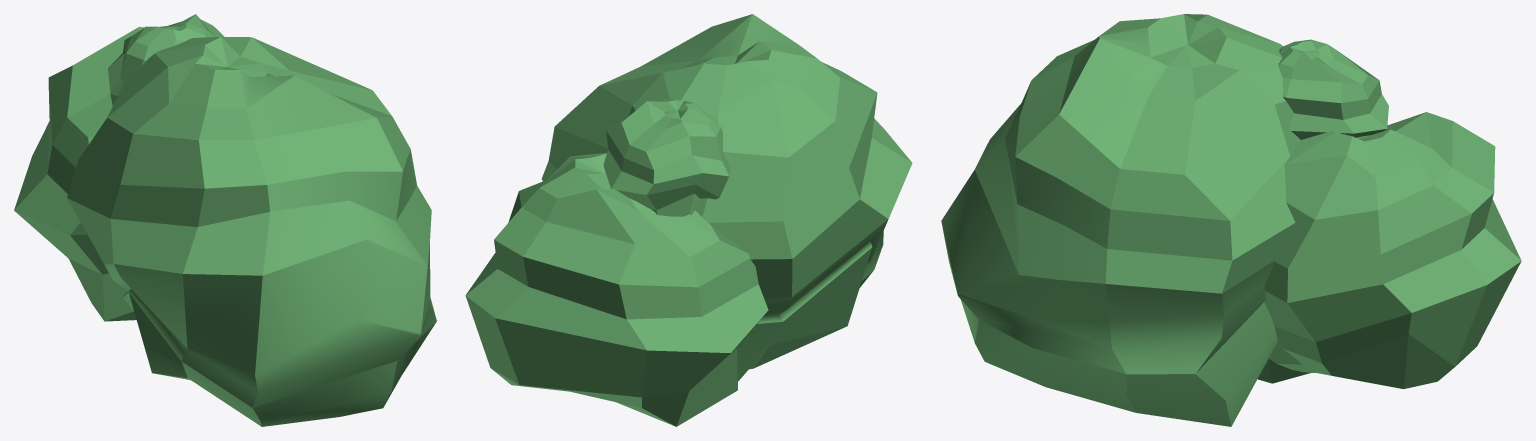
The model's file is Park_struik (1).fbx.
3 views of the same model, side by side, from view 1: azimuth 30°, elevation 25°; view 2: azimuth 150°, elevation 25°; view 3: azimuth 270°, elevation 25° (orthographic). The views are drawn at different scales.
Parts seen in each view (by area): view 1: pSphere4; view 2: pSphere4; view 3: pSphere4.
Boxes of the visible parts, x1,y1,x2,y2 form: pSphere4: (14, 14, 436, 426); pSphere4: (465, 14, 912, 426); pSphere4: (941, 14, 1521, 426).
Size of the model in its own units: 8.69 by 8.37 by 13.15.
